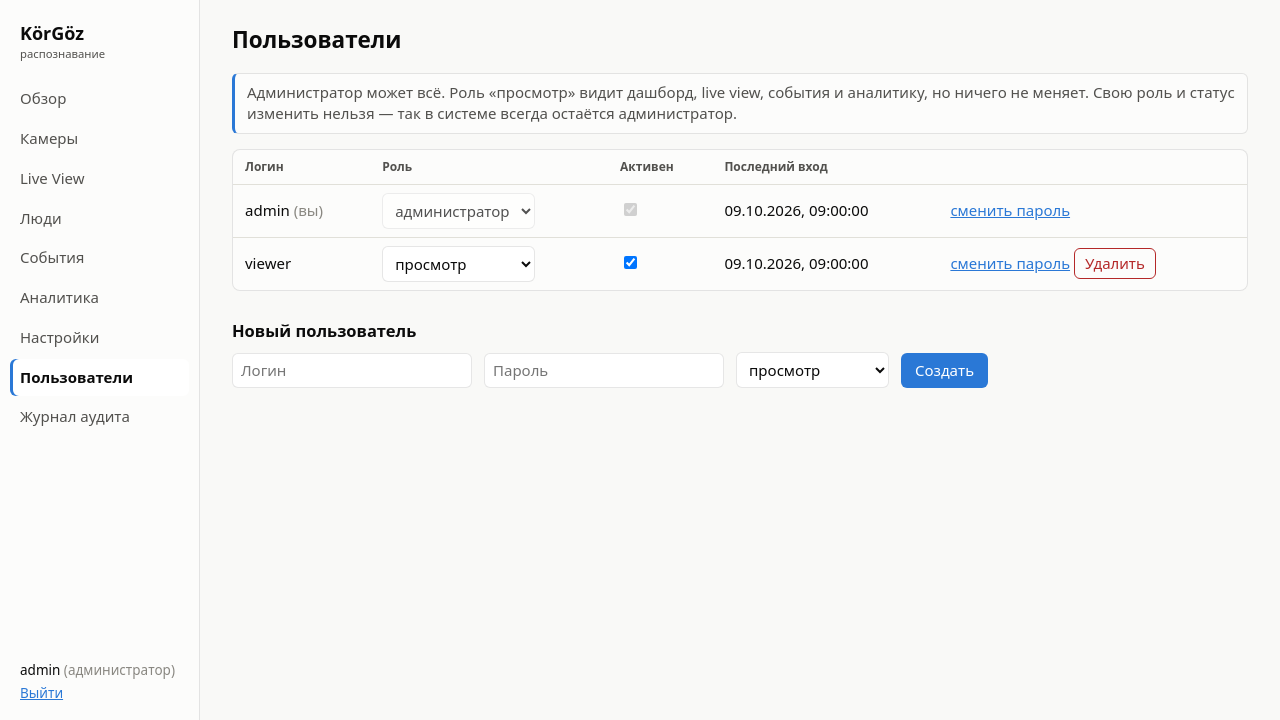
Test: pages › users page creates a user and blocks self-demotion in the UI
Expected: the dropdown named "Роль admin" is disabled, [382,192,535,228]
Expected: the dropdown named "Роль viewer" is enabled, [382,246,535,282]
Type "Bob" into the field labelled "Логин".
click(352, 371); type("Bob")  # box [232,353,472,388]
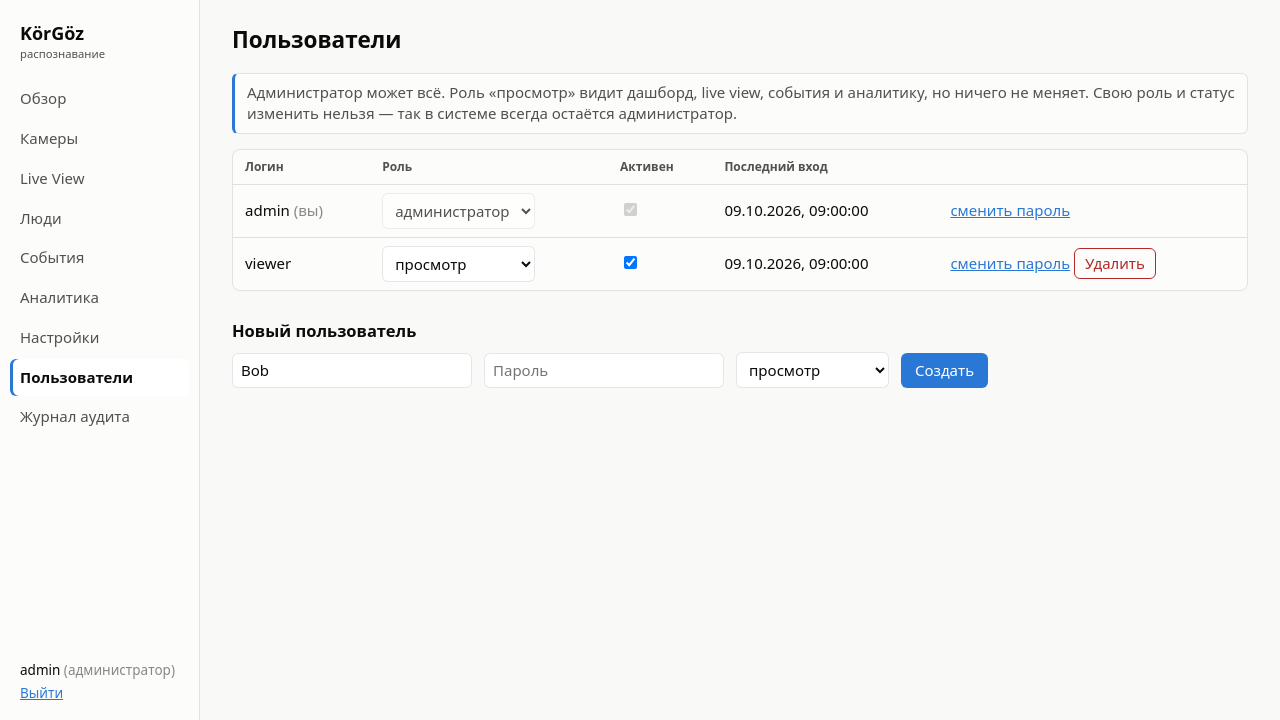
Type "bob-password-1" into the password field labelled "Пароль".
click(604, 371); type("bob-password-1")  # box [484,353,724,388]
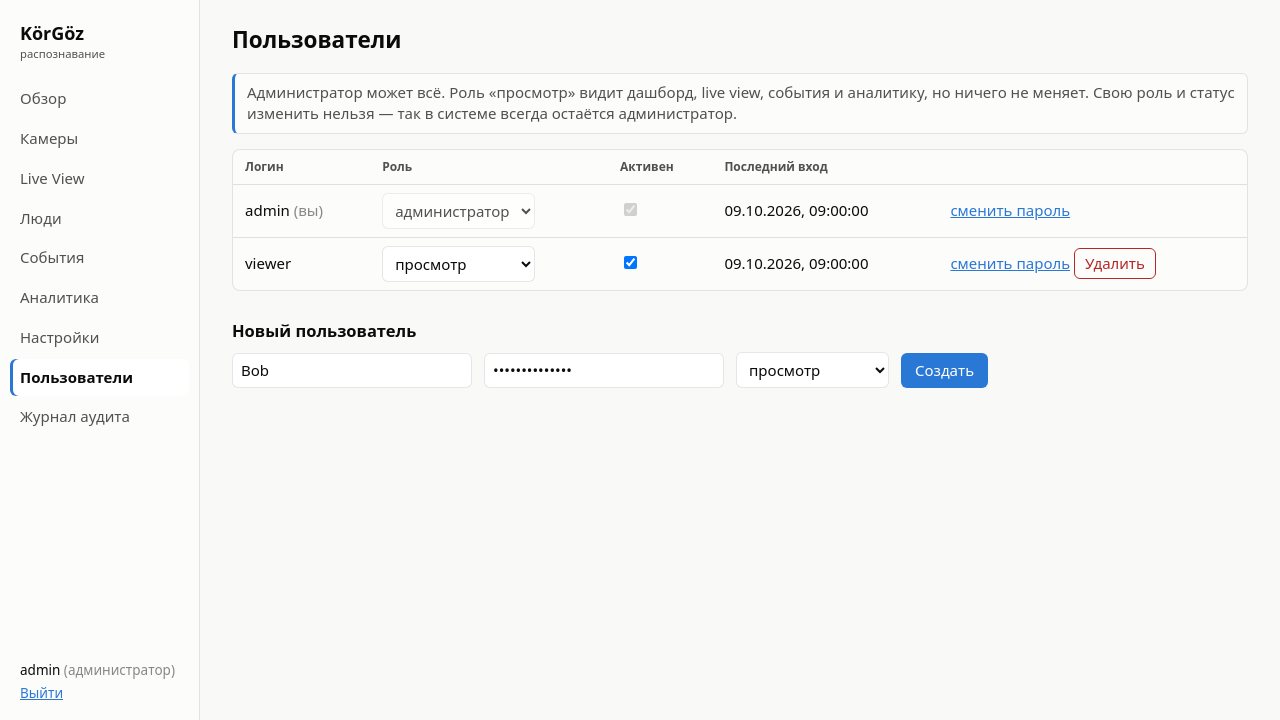
Click the button "Создать".
click(945, 371)  # box [901,353,988,388]
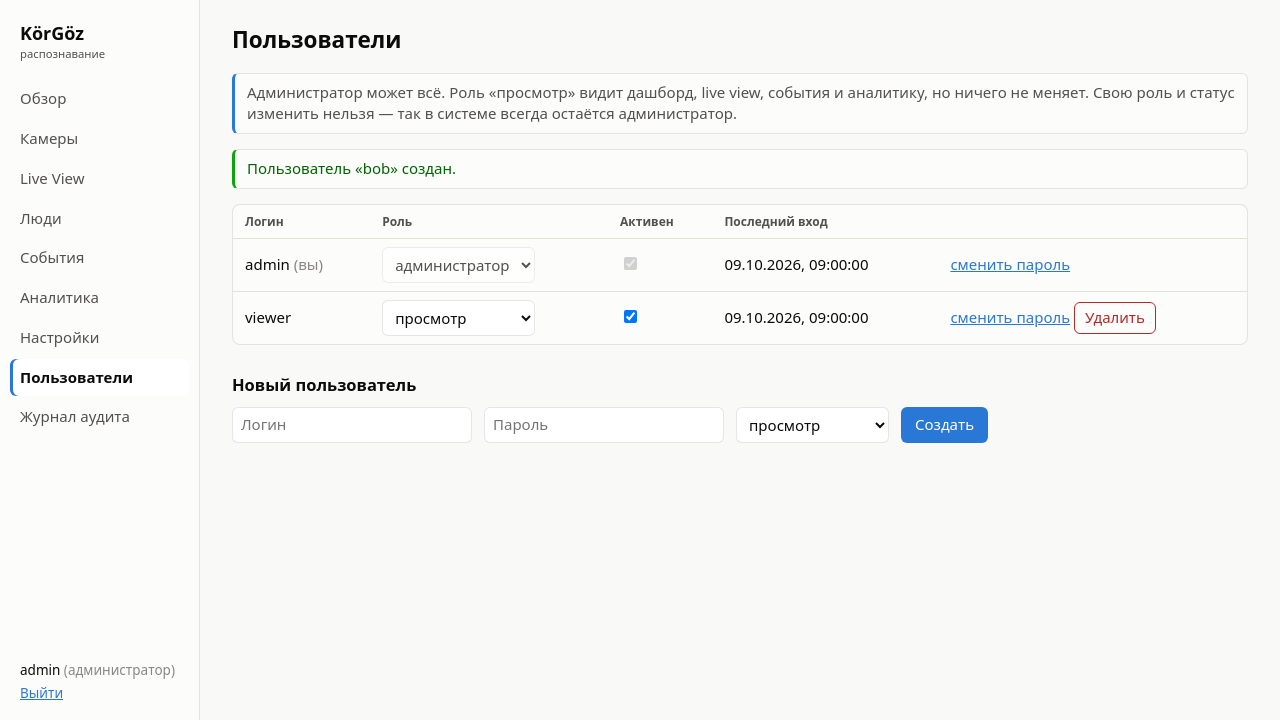
Now the text "Пользователь «bob» создан." is shown, box [232,149,1248,189]
